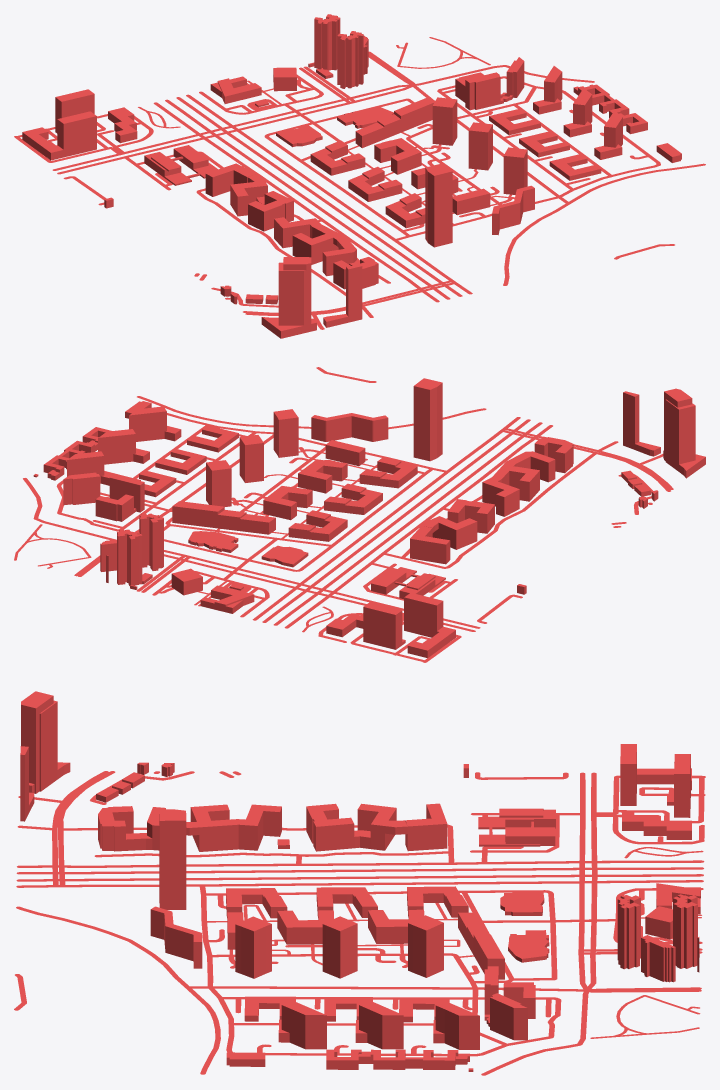
File: cadmapper-chengdu-sichuan-cn.dae
3 renders of one model, top to bottom at view 1: azimuth 30°, elevation 25°; view 2: azimuth 150°, elevation 25°; view 3: azimuth 270°, elevation 25°, orthographic. The views are drawn at different scales.
Visible parts, largest first — view 1: group_35, group_117, group_224, group_208, group_16, group_95, group_127, group_235, group_200, group_13, group_18, group_193 (+37 smaller); view 2: group_35, group_117, group_221, group_224, group_126, group_191, group_208, group_95, group_16, group_134, group_18, group_13 (+41 smaller); view 3: group_117, group_35, group_224, group_220, group_193, group_21, group_235, group_13, group_200, group_127, group_221, group_95 (+45 smaller).
Part boxes in pixels (box(x1,y1,x2,y2)): group_35: box(425, 163, 452, 247); group_117: box(274, 217, 340, 264); group_224: box(278, 262, 311, 333); group_208: box(57, 111, 96, 157); group_16: box(337, 31, 363, 88); group_95: box(314, 14, 340, 70); group_127: box(248, 191, 293, 231); group_235: box(165, 99, 450, 299); group_200: box(186, 94, 472, 294); group_13: box(176, 97, 462, 296); group_18: box(374, 138, 421, 174); group_193: box(432, 97, 457, 145); group_35: box(413, 378, 442, 461); group_117: box(482, 464, 539, 516); group_221: box(311, 413, 388, 441); group_224: box(664, 398, 695, 471); group_126: box(363, 602, 402, 649); group_191: box(172, 510, 275, 534); group_208: box(404, 593, 443, 637); group_95: box(117, 529, 142, 585); group_16: box(139, 513, 163, 570); group_134: box(298, 459, 347, 493); group_18: box(263, 486, 312, 520); group_13: box(262, 419, 530, 622); group_117: box(190, 804, 281, 851); group_35: box(159, 809, 186, 909); group_224: box(21, 700, 57, 793); group_220: box(235, 916, 271, 978); group_193: box(408, 915, 443, 977); group_21: box(322, 916, 357, 978); group_235: box(16, 867, 703, 874); group_13: box(16, 874, 703, 881); group_200: box(16, 880, 703, 887); group_127: box(306, 803, 354, 851); group_221: box(150, 906, 202, 968); group_95: box(673, 894, 697, 968).
Bounding box in the file's own units: 40615 × 38974 × 5551.
